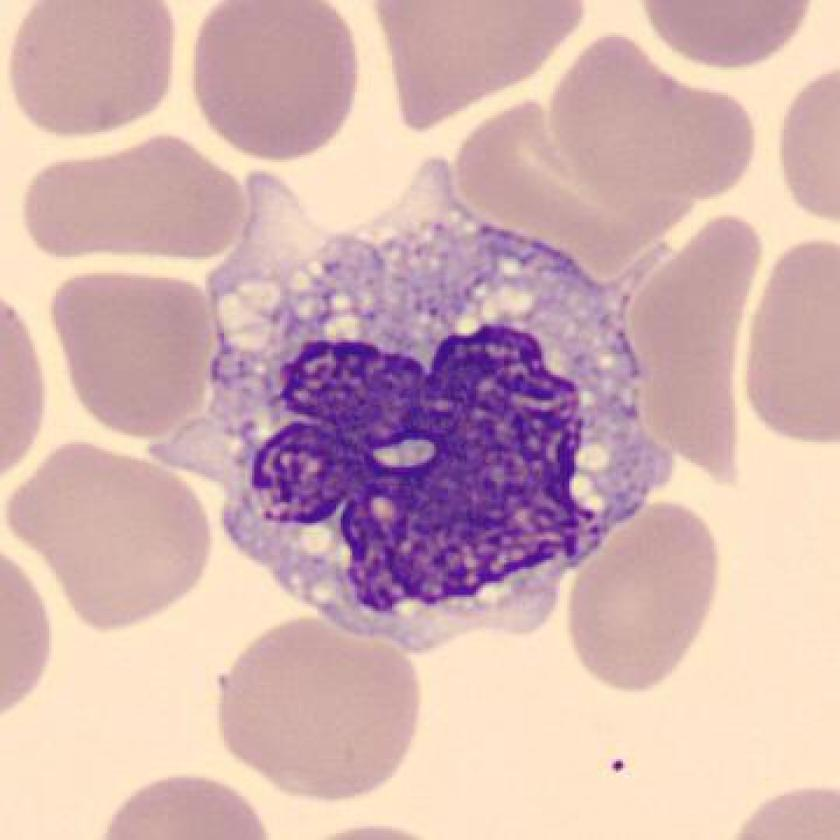monocyte: (134, 136, 696, 668)
